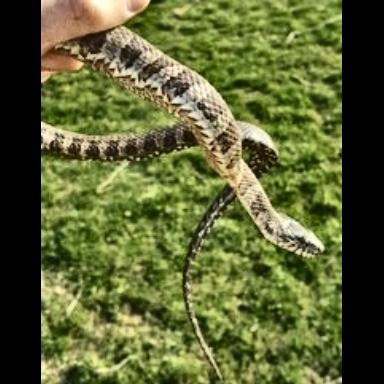snake: (55, 29, 323, 255)
